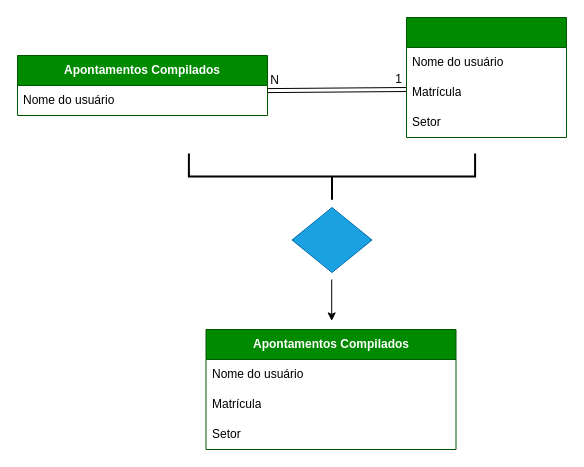
Some shapes in this 584 by 467 pixel diagram are drawn without their labels. Here are the shapes that lost their labels. From the top down, the box of each, then its label:
(406, 16, 566, 138): Funcionário
(291, 206, 372, 272): Merge (Left Join)
